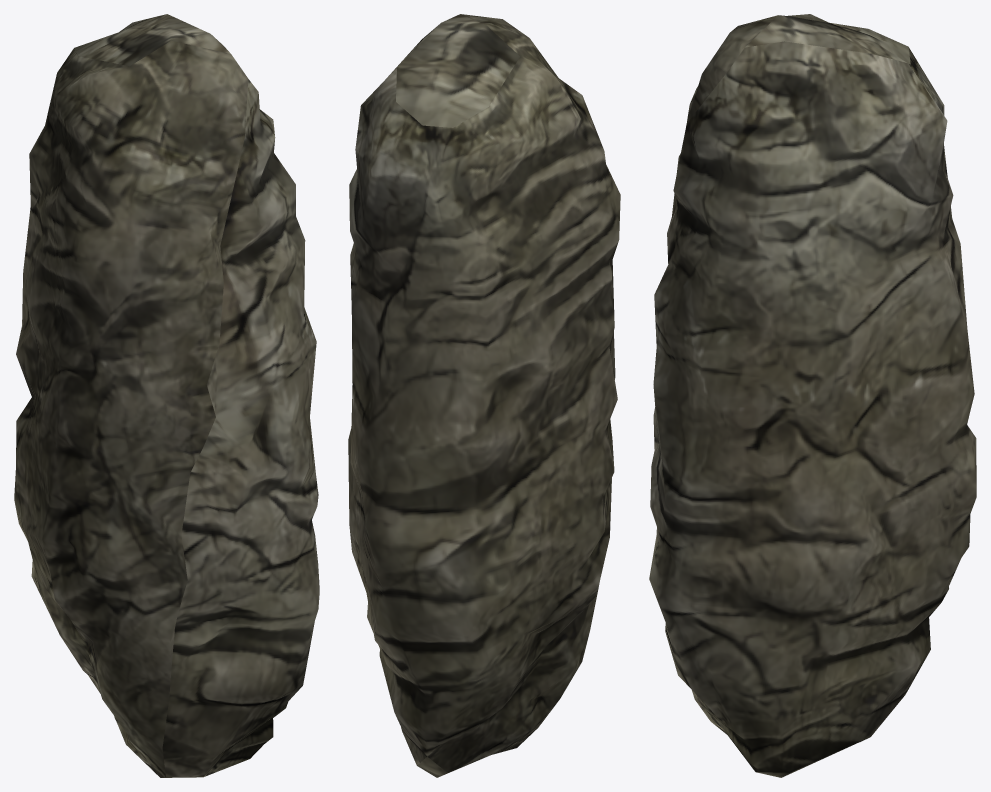
Rendered from MEP_Cliff_20.fbx.
The picture shows the model from 3 angles, left to right: view 1: azimuth 30°, elevation 25°; view 2: azimuth 150°, elevation 25°; view 3: azimuth 270°, elevation 25°; orthographic projection.
Visible parts, largest first — view 1: MEP_Desert_Cliff_20; view 2: MEP_Desert_Cliff_20; view 3: MEP_Desert_Cliff_20.
Part boxes in pixels (bbox=[...]): MEP_Desert_Cliff_20: bbox=[14, 14, 319, 777]; MEP_Desert_Cliff_20: bbox=[348, 14, 620, 777]; MEP_Desert_Cliff_20: bbox=[649, 14, 976, 777].
Size of what is drawn, in the model's own units: 150 by 430 by 175.
Materials: 1 (1 with a texture image).
